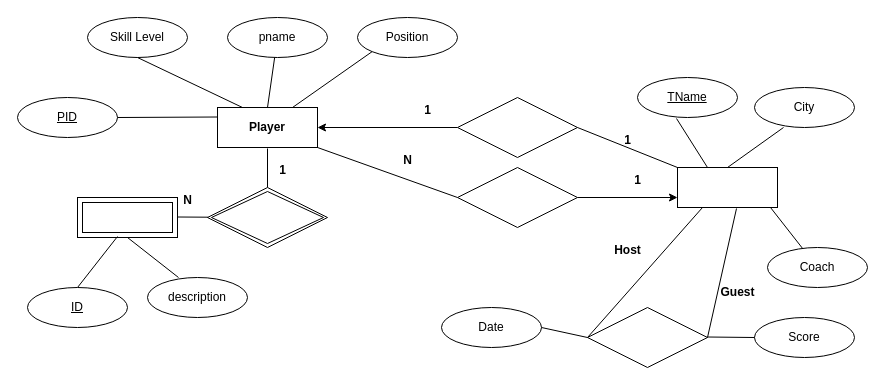
Image size: 885x385. Some labels were removed from this diagram. The centre of each missing label's shape, as x and y in pixels:
"Belongs to" goes at (517,197).
"Captain" goes at (517,127).
"Game_played" goes at (647,337).
"HAS" goes at (267,217).
"injury record" goes at (127,217).
"TEAM" goes at (727,187).
